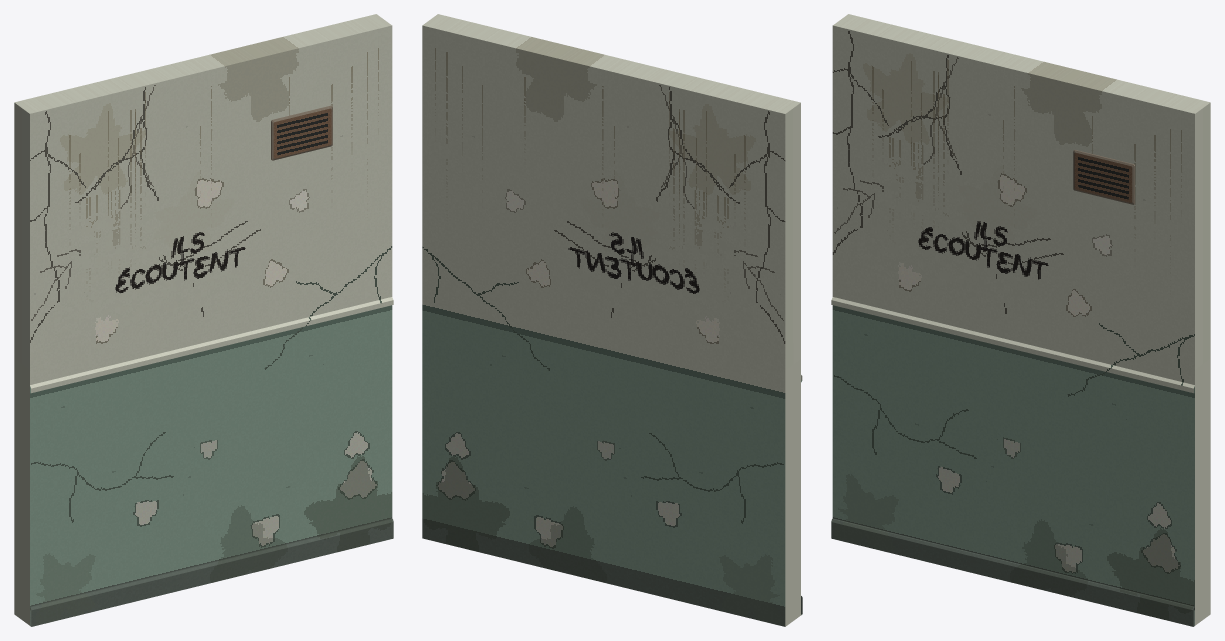
Rendered from wall_4_ils_ecoutent.glb.
3 views of the same model, side by side, from view 1: azimuth 30°, elevation 25°; view 2: azimuth 150°, elevation 25°; view 3: azimuth 330°, elevation 25° (orthographic).
Parts seen in each view (by area): view 1: wall_body, vent_grille; view 2: wall_body; view 3: wall_body, vent_grille.
Part boxes in pixels (box(x1,y1,x2,y2)): wall_body: box(14, 14, 393, 626); vent_grille: box(271, 105, 332, 160); wall_body: box(422, 14, 802, 626); wall_body: box(831, 14, 1210, 626); vent_grille: box(1073, 150, 1134, 204).
Bounding box in the file's own units: 2 × 2.7 × 0.1656.
1 material, 1 textured.
